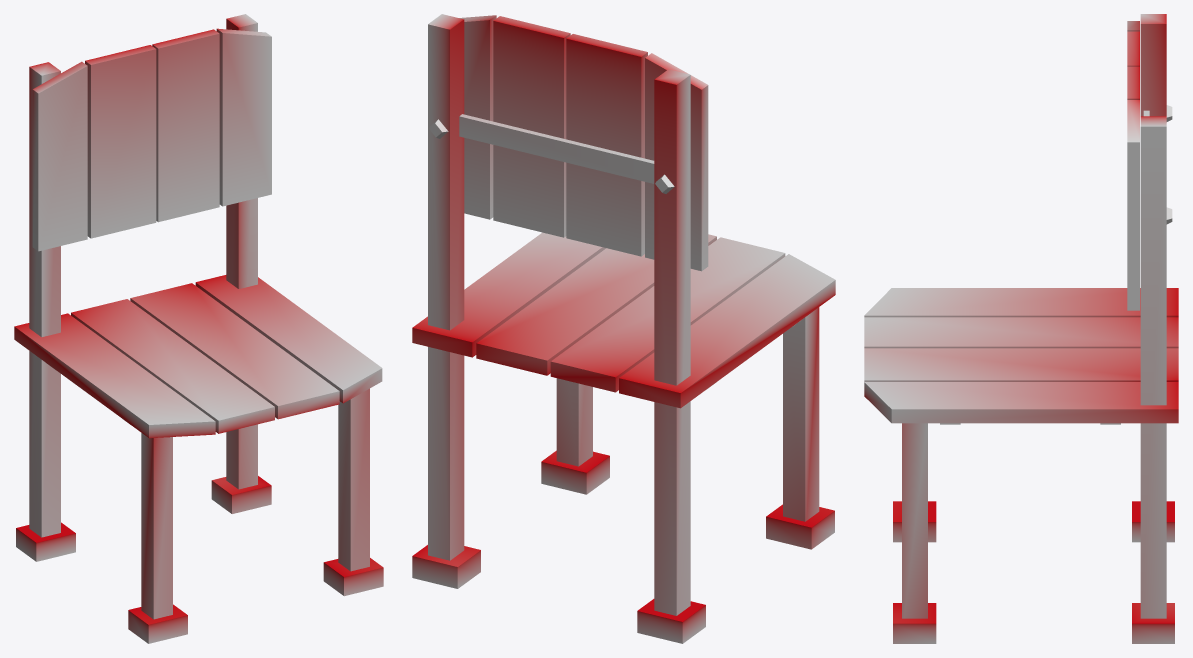
The model's file is WoodChair.fbx.
The picture shows the model from 3 angles, left to right: view 1: azimuth 30°, elevation 25°; view 2: azimuth 150°, elevation 25°; view 3: azimuth 270°, elevation 25°; orthographic projection. The views are drawn at different scales.
Visible parts, largest first — view 1: WoodChair; view 2: WoodChair; view 3: WoodChair.
Boxes of the visible parts, <box> form: WoodChair: <box>14,14,383,643</box>; WoodChair: <box>412,14,835,643</box>; WoodChair: <box>864,14,1178,643</box>.
Bounding box in the file's own units: 202 × 398 × 219.
